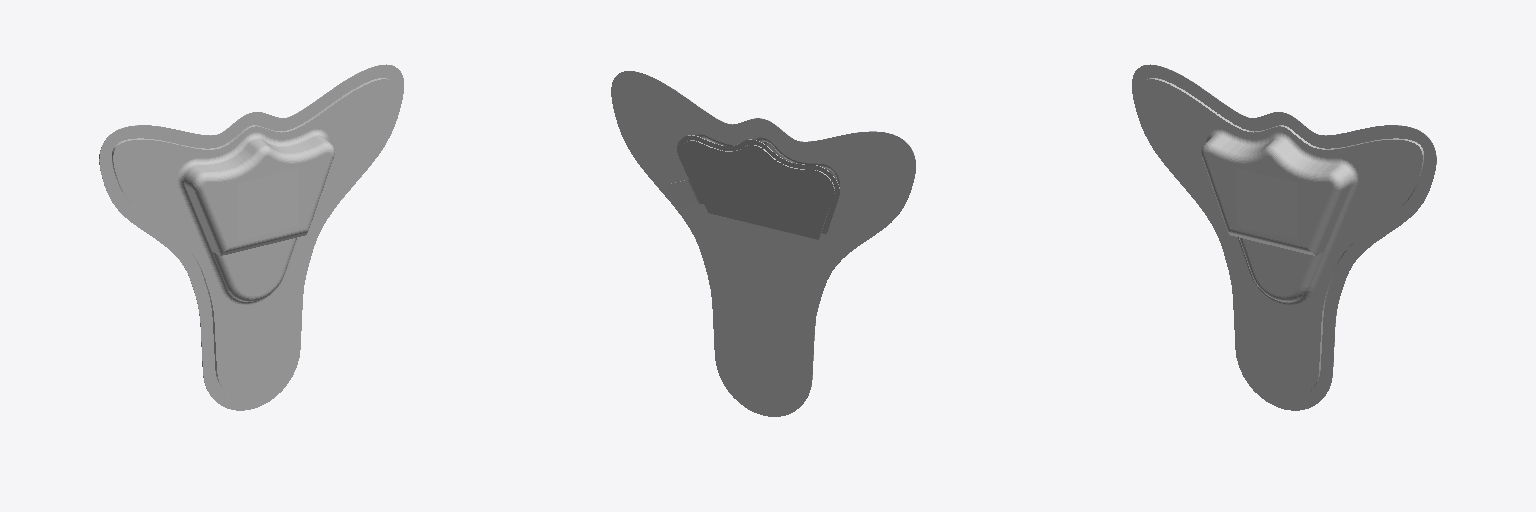
The picture shows the model from 3 angles: view 1: azimuth 30°, elevation 25°; view 2: azimuth 150°, elevation 25°; view 3: azimuth 330°, elevation 25°; orthographic projection.
Visible parts, largest first — view 1: Icone_patch_Inomedis; view 2: Icone_patch_Inomedis; view 3: Icone_patch_Inomedis.
Part boxes in pixels (x1,y1,x2,y2): Icone_patch_Inomedis: (99,64,403,410); Icone_patch_Inomedis: (611,71,915,416); Icone_patch_Inomedis: (1132,64,1436,410).
Size of the model in its own units: 1.25 by 1.23 by 0.1835.